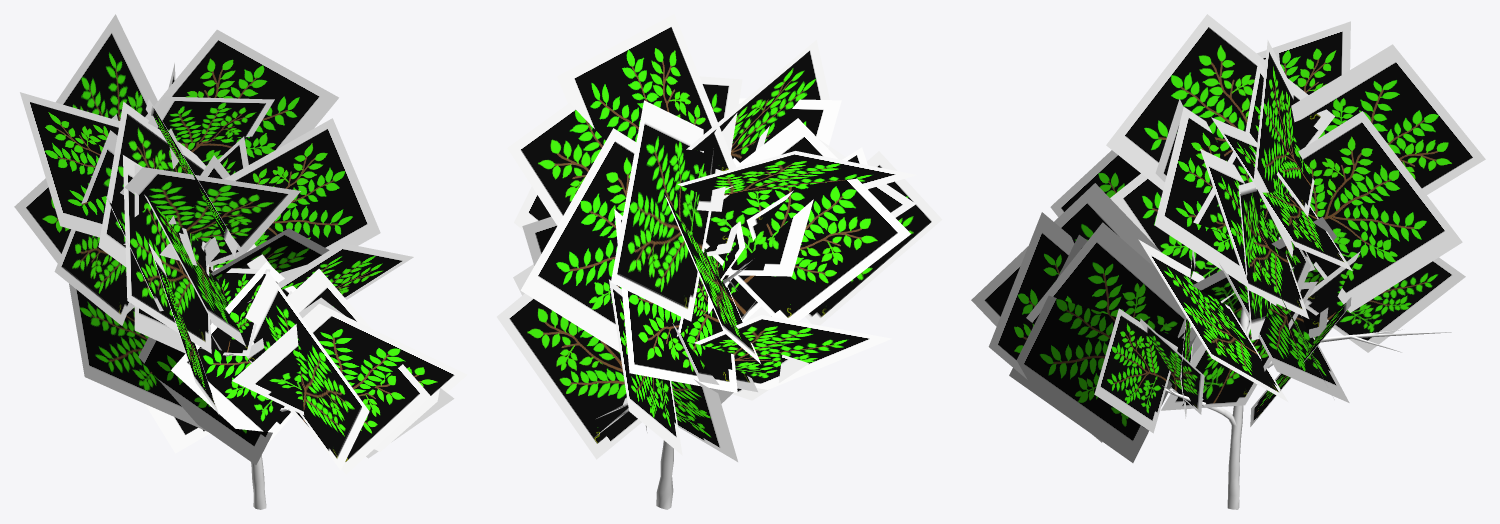
Rendered from tree_e.fbx.
The picture shows the model from 3 angles, left to right: view 1: azimuth 30°, elevation 25°; view 2: azimuth 150°, elevation 25°; view 3: azimuth 270°, elevation 25°; orthographic projection. The views are drawn at different scales.
Parts seen in each view (by area): view 1: tree_e; view 2: tree_e; view 3: tree_e.
Boxes of the visible parts, <box> form: tree_e: <box>14,14,467,509</box>; tree_e: <box>497,14,942,509</box>; tree_e: <box>971,14,1485,509</box>.
Bounding box in the file's own units: 22.32 × 28.06 × 28.71.
2 materials, 1 textured.
